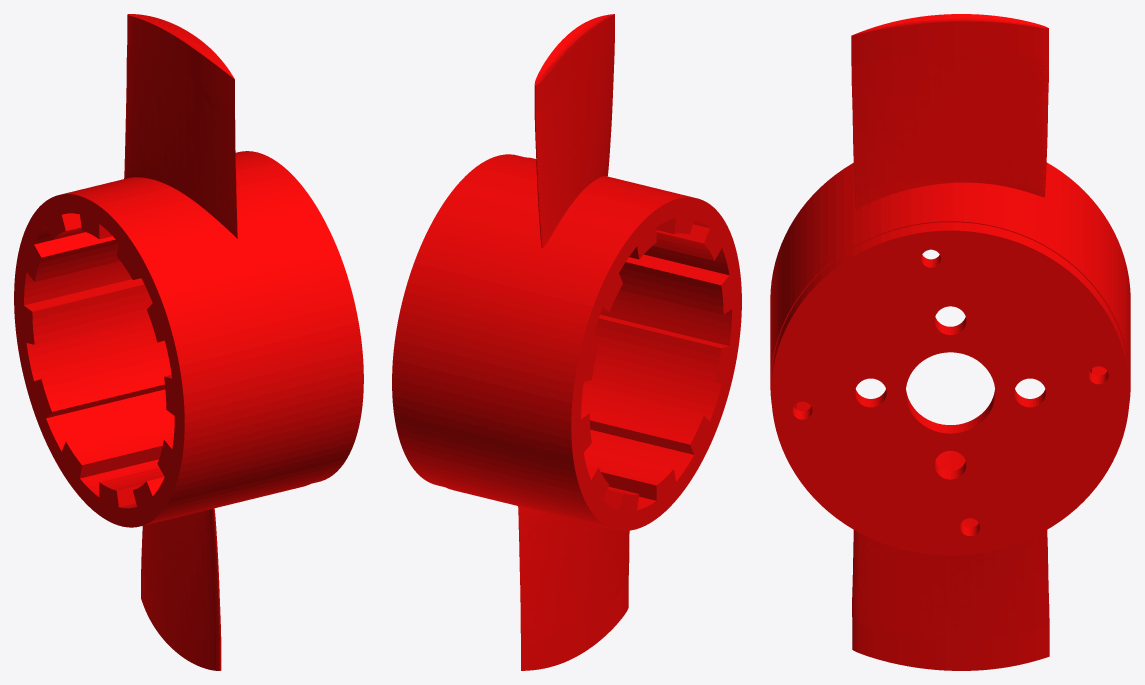
File: propeller.dae
The picture shows the model from 3 angles, left to right: view 1: azimuth 30°, elevation 25°; view 2: azimuth 150°, elevation 25°; view 3: azimuth 270°, elevation 25°; orthographic projection. The views are drawn at different scales.
Parts seen in each view (by area): view 1: node0; view 2: node0; view 3: node0.
Part boxes in pixels (bbox=[...]): node0: bbox=[14, 14, 363, 670]; node0: bbox=[392, 14, 741, 670]; node0: bbox=[770, 14, 1130, 670].
Bounding box in the file's own units: 0.022 × 0.0362 × 0.0719.
